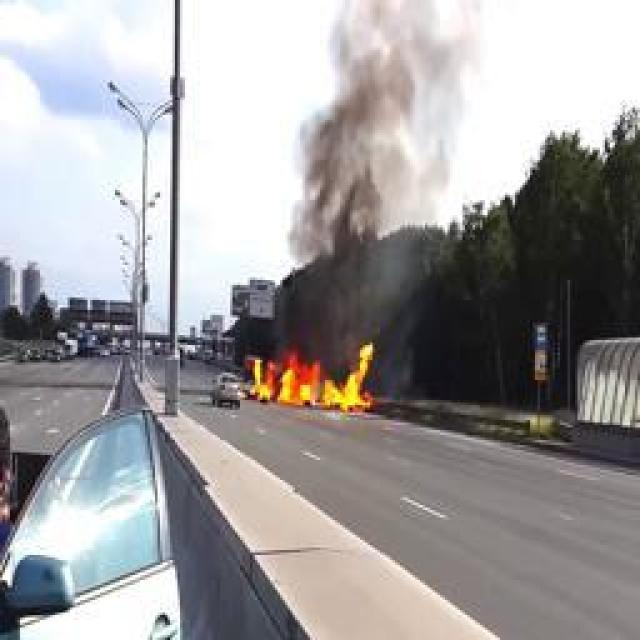Fire: (248, 341, 376, 411)
